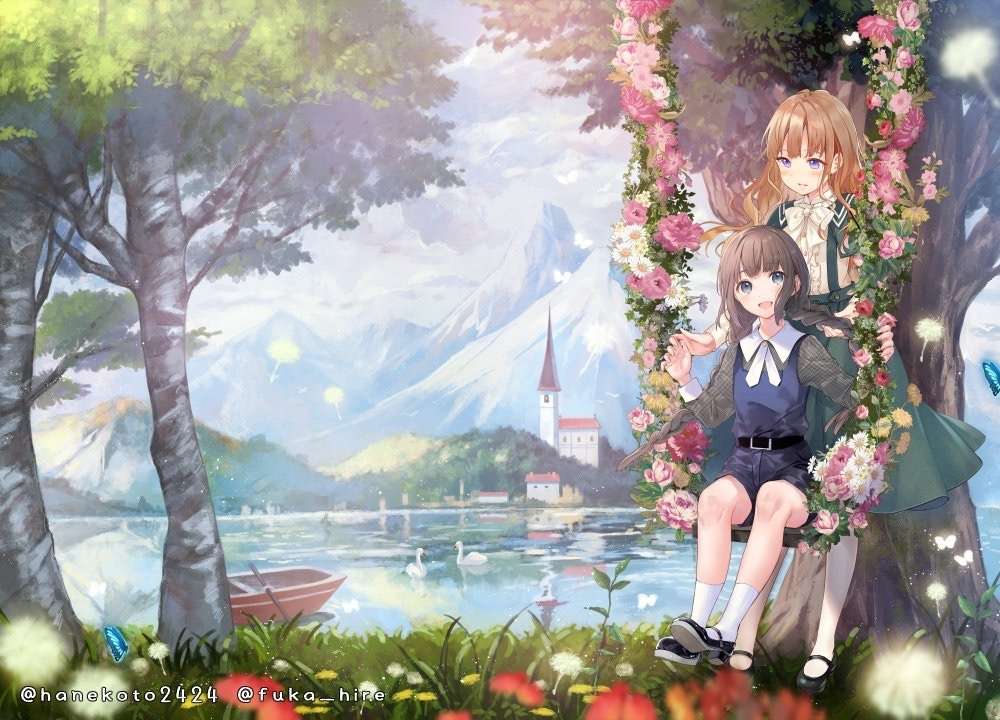纸片人正脸: (751, 88, 867, 207), (708, 224, 808, 324)
